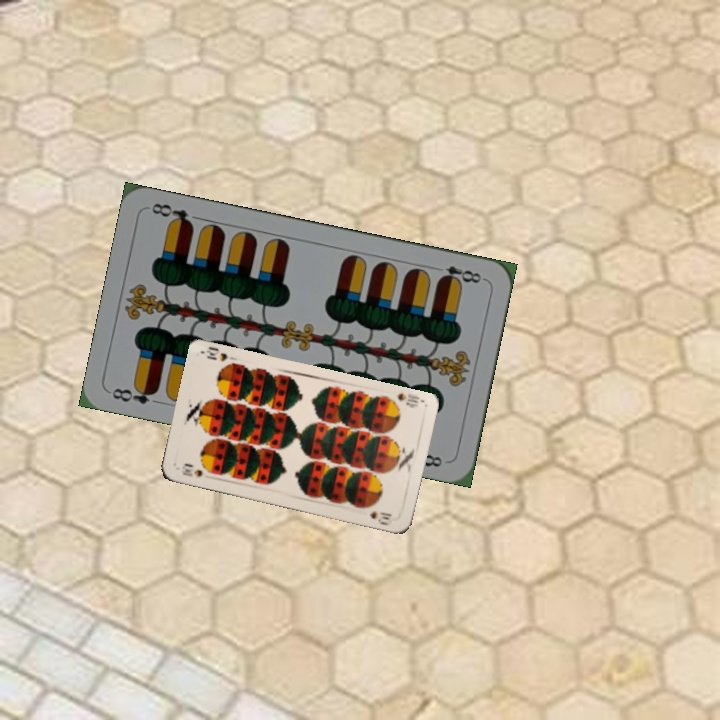E8: (108, 381, 161, 407), (435, 261, 487, 287)
S10: (392, 389, 425, 411), (177, 461, 215, 479)
